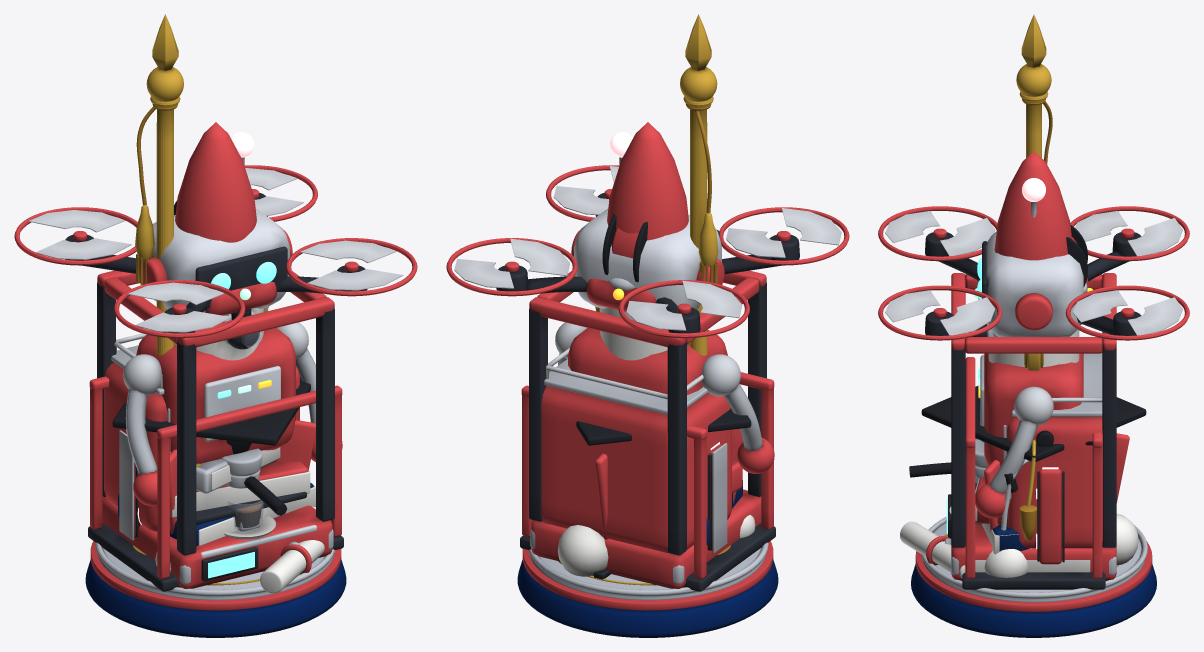
File: pawns.glb
3 renders of one model, left to right at view 1: azimuth 30°, elevation 25°; view 2: azimuth 150°, elevation 25°; view 3: azimuth 270°, elevation 25°, orthographic. The views are drawn at different scales.
Visible parts, largest first — view 1: printer_dark_metal, printer_player, rocket_player, robot_player, banner_uni_lacquer, miner_player, drone_player, robot_player_light, banner_gold, cap_ceramic, espresso_player, banner_player_band (+24 smaller); view 2: espresso_player, printer_dark_metal, printer_player, banner_uni_lacquer, rocket_player, drone_player, robot_player_light, robot_player, banner_gold, miner_player, rocket_ceramic, banner_player_band (+16 smaller); view 3: robot_player, banner_uni_lacquer, espresso_player, robot_player_light, rocket_player, miner_player, drone_player, printer_dark_metal, printer_player, drone_dark_metal, rocket_ceramic, banner_player_band (+21 smaller).
Part boxes in pixels (<box>): printer_dark_metal: <box>97,282,334,581</box>; printer_player: <box>97,270,334,588</box>; rocket_player: <box>170,122,315,534</box>; robot_player: <box>133,229,342,506</box>; banner_uni_lacquer: <box>85,559,346,637</box>; miner_player: <box>89,376,342,578</box>; drone_player: <box>14,165,417,338</box>; robot_player_light: <box>144,208,289,441</box>; banner_gold: <box>135,14,259,585</box>; cap_ceramic: <box>171,447,324,593</box>; espresso_player: <box>104,362,299,531</box>; banner_player_band: <box>90,541,341,610</box>; espresso_player: <box>541,385,731,552</box>; printer_dark_metal: <box>529,282,766,555</box>; printer_player: <box>529,227,766,588</box>; banner_uni_lacquer: <box>517,559,778,637</box>; rocket_player: <box>595,122,742,539</box>; drone_player: <box>446,165,849,338</box>; robot_player_light: <box>574,208,721,309</box>; robot_player: <box>568,229,774,473</box>; banner_gold: <box>589,14,718,585</box>; miner_player: <box>521,372,774,578</box>; rocket_ceramic: <box>557,308,755,576</box>; banner_player_band: <box>522,541,773,610</box>; robot_player: <box>975,293,1083,518</box>; banner_uni_lacquer: <box>911,563,1156,637</box>; espresso_player: <box>1007,417,1103,548</box>; robot_player_light: <box>980,231,1083,442</box>; rocket_player: <box>984,151,1129,531</box>; miner_player: <box>965,357,1102,578</box>; drone_player: <box>878,206,1189,340</box>; printer_dark_metal: <box>948,348,1116,547</box>; printer_player: <box>951,237,1116,580</box>; drone_dark_metal: <box>925,232,1141,336</box>; rocket_ceramic: <box>984,329,1138,577</box>; banner_player_band: <box>915,541,1152,611</box>.
Size of the model in its own units: 0.565 by 1.1 by 0.565.
